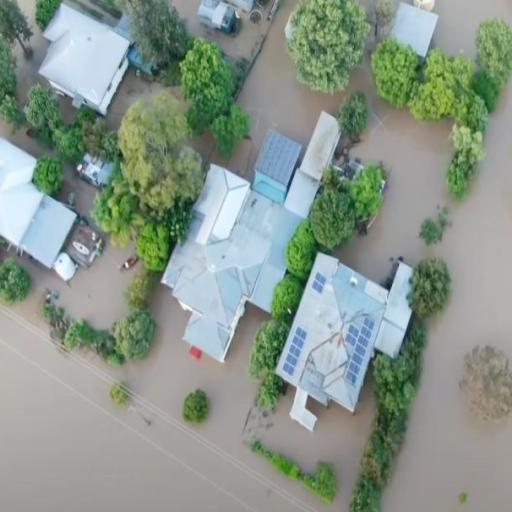flood: (0, 247, 374, 512), (338, 67, 512, 512), (170, 0, 347, 180), (239, 0, 344, 156), (105, 67, 188, 130), (14, 0, 46, 106), (0, 118, 51, 156), (497, 0, 512, 17)
house: (162, 128, 300, 360), (276, 250, 395, 408), (25, 0, 138, 140), (0, 167, 82, 275), (368, 261, 424, 367), (388, 0, 441, 74)
